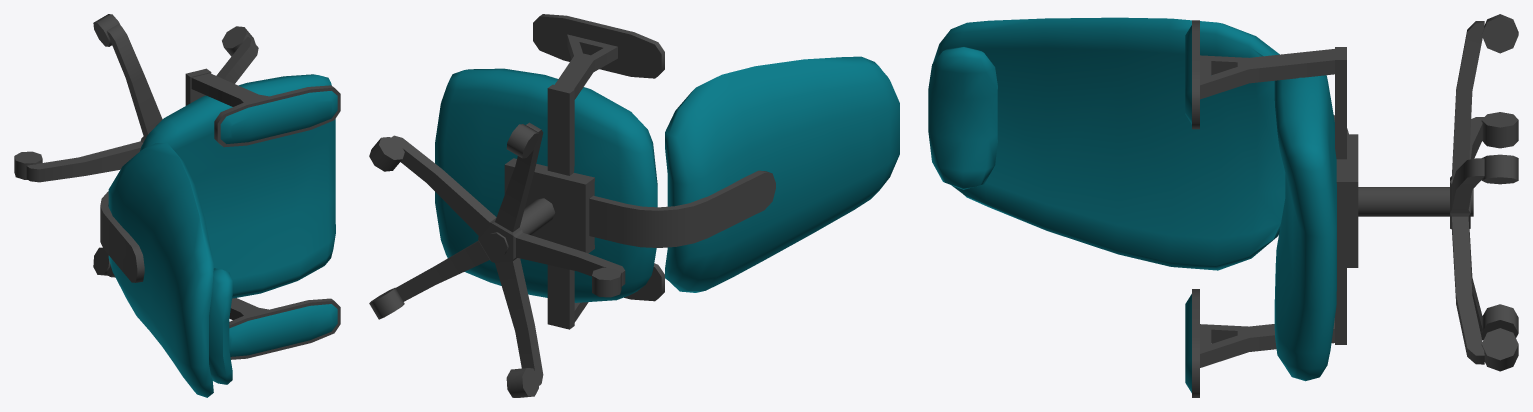
Rendered from desk_chair.glb.
The picture shows the model from 3 angles, left to right: view 1: azimuth 30°, elevation 25°; view 2: azimuth 150°, elevation 25°; view 3: azimuth 270°, elevation 25°; orthographic projection. The views are drawn at different scales.
Parts seen in each view (by area): view 1: desk_chair; view 2: desk_chair; view 3: desk_chair.
Boxes of the visible parts, x1,y1,x2,y2 form: desk_chair: (14,14,340,397); desk_chair: (369,14,899,397); desk_chair: (928,14,1518,397).
Size of the model in its own units: 0.9889 by 0.8408 by 1.36.
